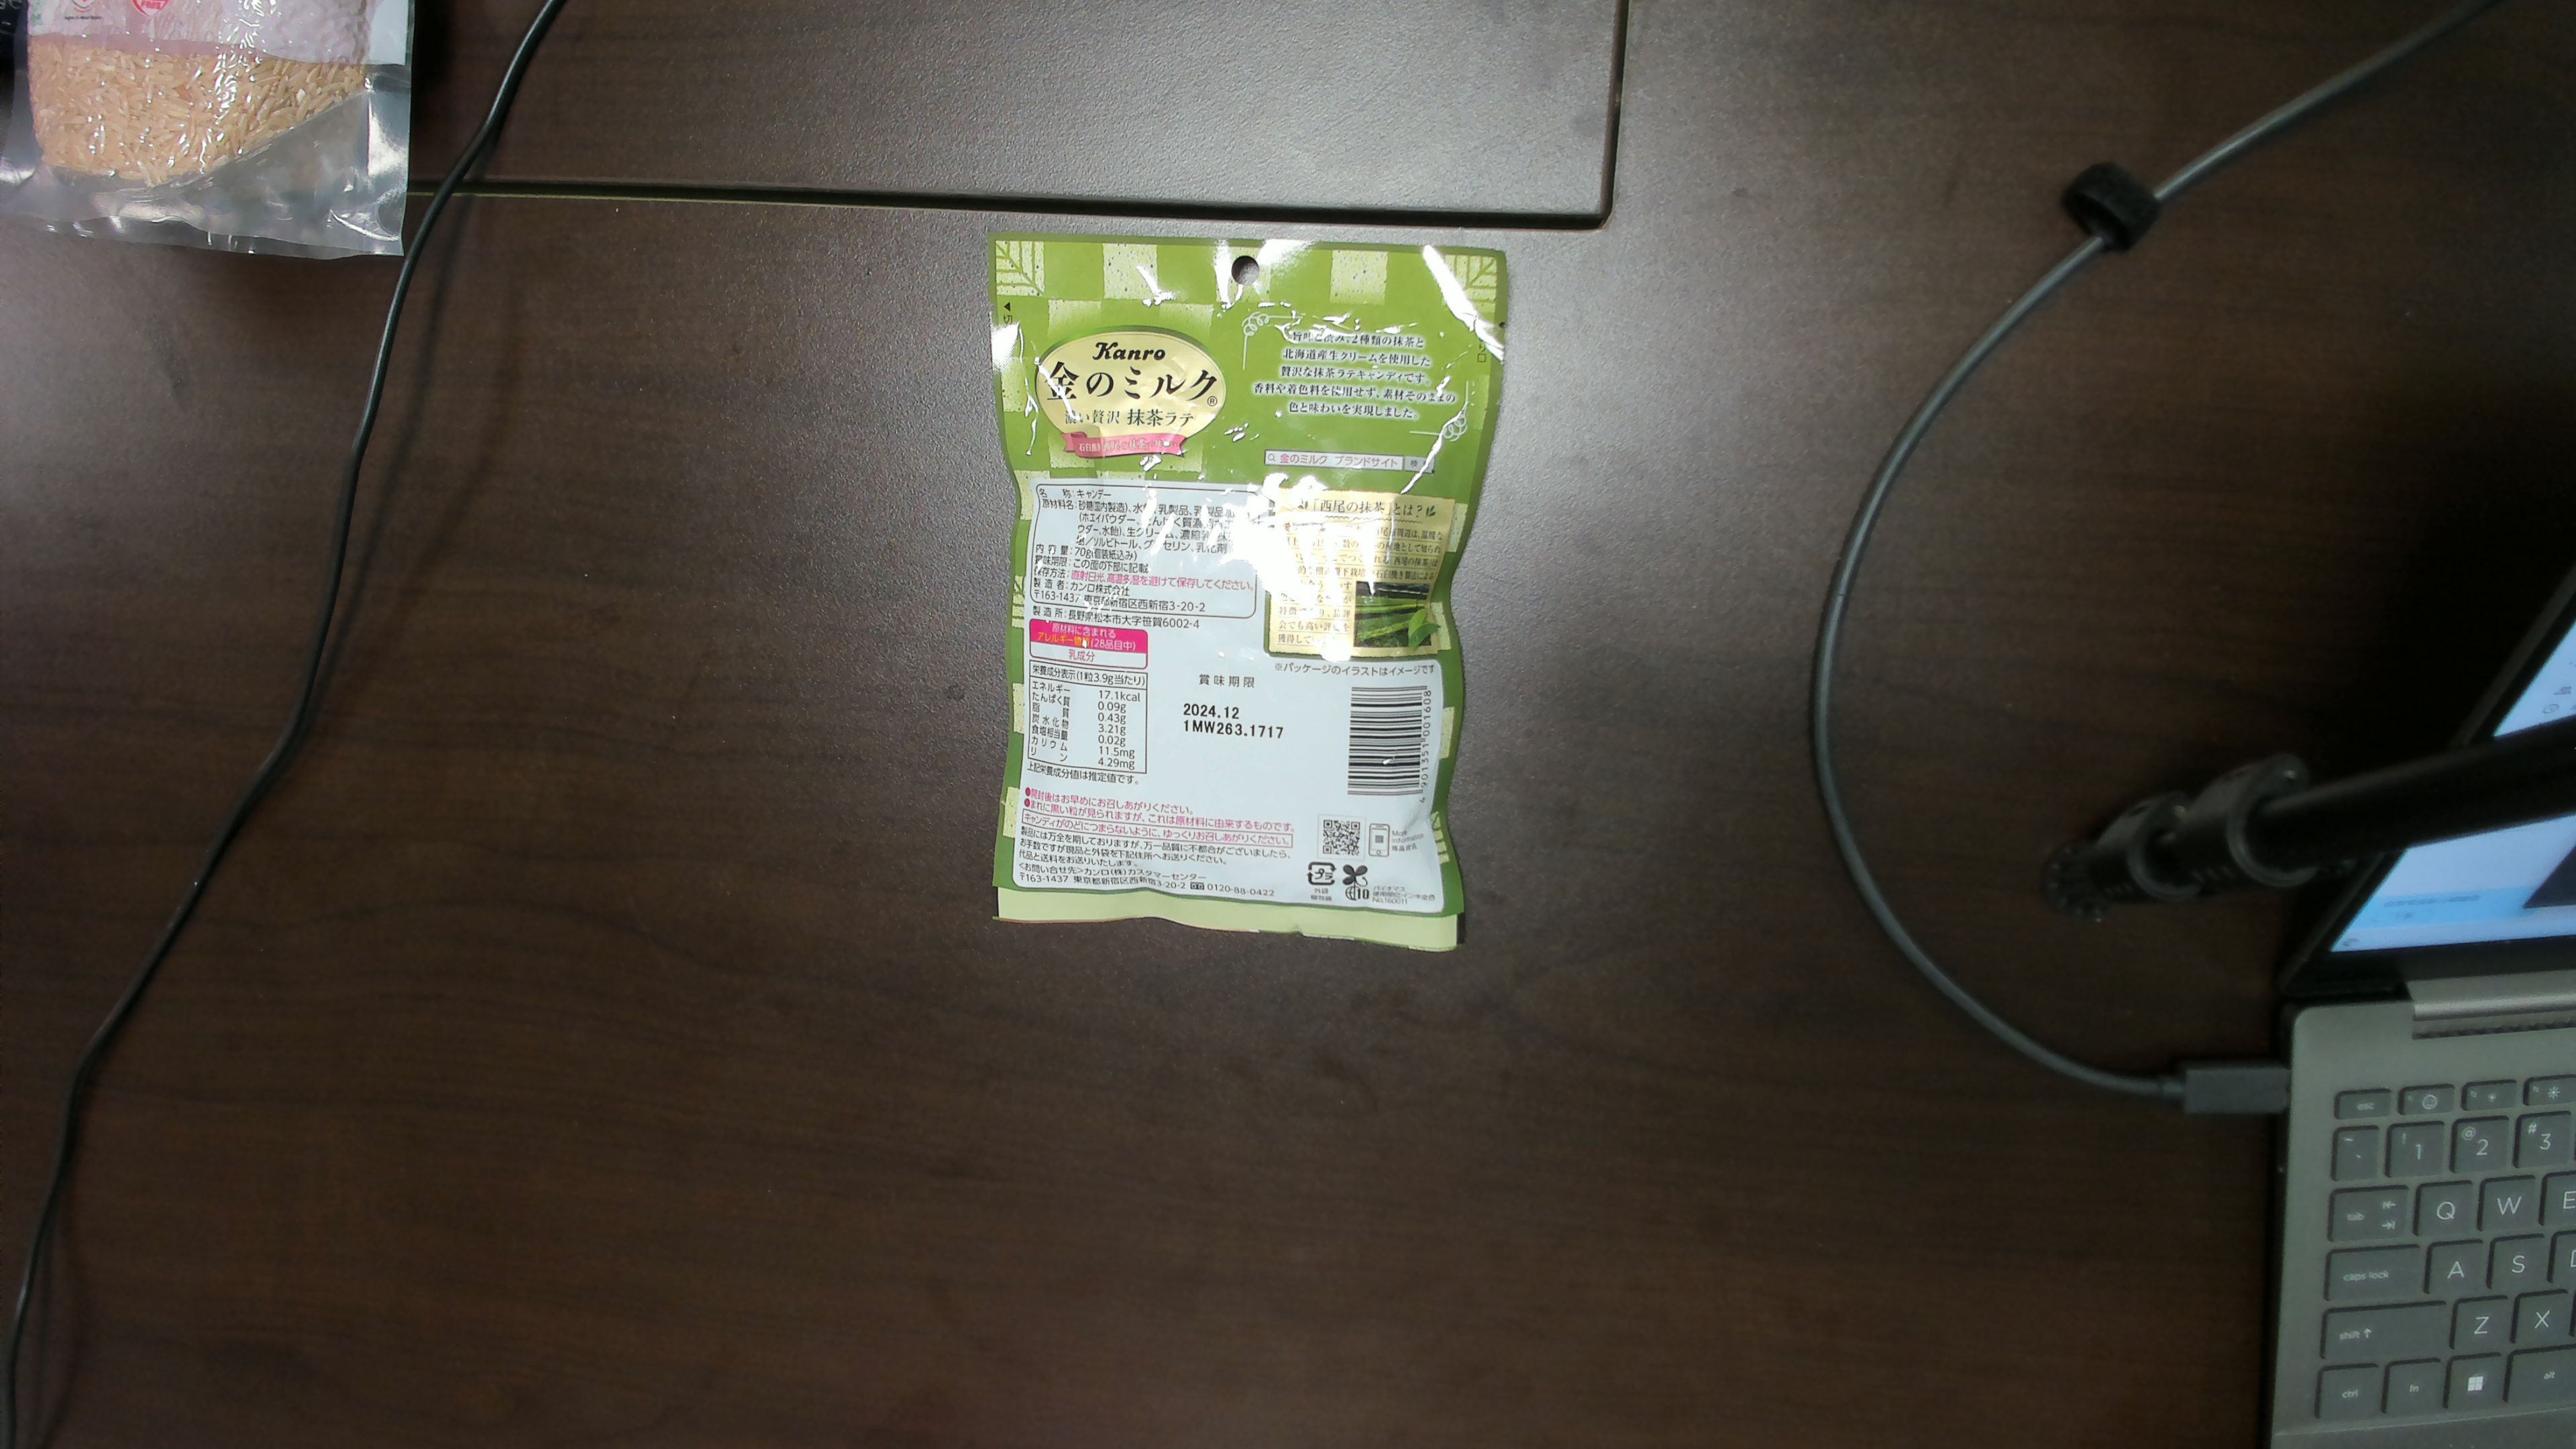SweetsChocolatesOthers_100-199g_NonHalal_NonHealthy: (998, 241, 1454, 936)
